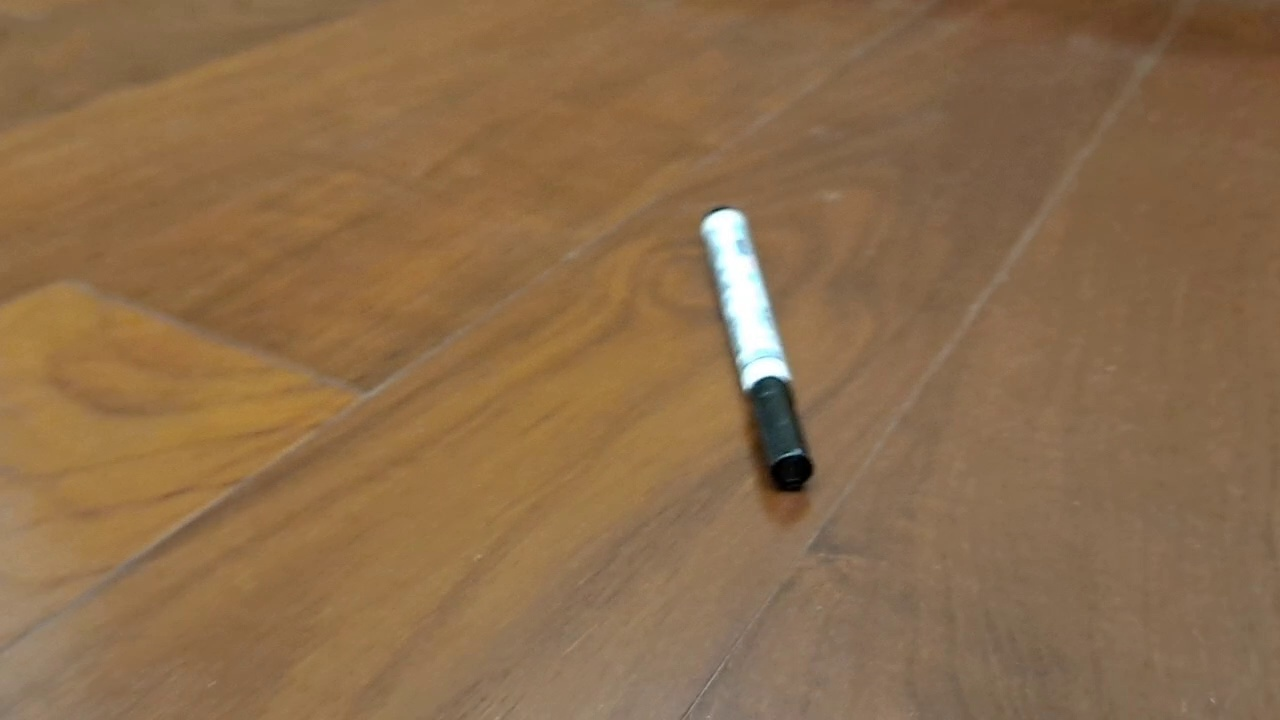pen: (699, 206, 815, 493)
